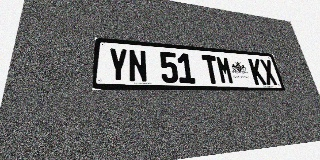1: (176, 53, 196, 83)
5: (160, 51, 179, 83)
K: (248, 58, 267, 85)
M: (215, 56, 235, 84)
N: (128, 49, 148, 83)
T: (201, 55, 221, 84)
X: (259, 59, 278, 85)
Y: (108, 48, 128, 82)
